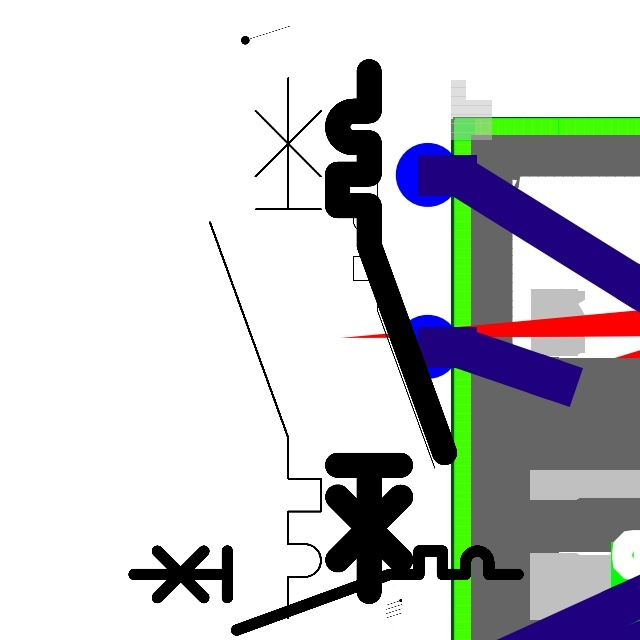interruptor_termomagnetico: (196, 64, 335, 632), (324, 58, 458, 604), (343, 168, 445, 584), (124, 541, 528, 640)
